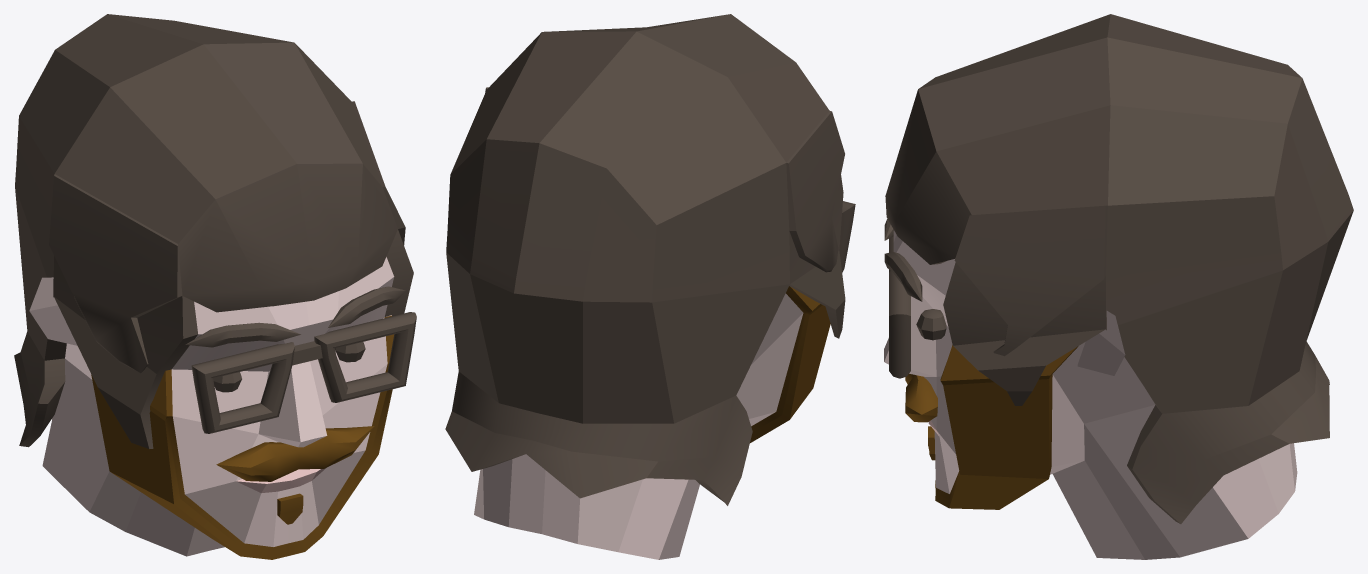
3 renders of one model, left to right at view 1: azimuth 30°, elevation 25°; view 2: azimuth 150°, elevation 25°; view 3: azimuth 270°, elevation 25°, orthographic.
Visible parts, largest first — view 1: Null.1-black (×4), Null.1-Mat.2, Null.1-Mat (×2), Null.1-Mat.1; view 2: Null.1-black (×2), Null.1-Mat.2, Null.1-Mat; view 3: Null.1-black (×4), Null.1-Mat.2, Null.1-Mat (×2).
Boxes of the visible parts, bbox=[...] form: Null.1-black (×4): bbox=[14, 14, 416, 448]; Null.1-Mat.2: bbox=[29, 257, 394, 556]; Null.1-Mat (×2): bbox=[91, 315, 394, 559]; Null.1-Mat.1: bbox=[236, 468, 325, 493]; Null.1-black (×2): bbox=[445, 14, 855, 505]; Null.1-Mat.2: bbox=[474, 293, 803, 559]; Null.1-Mat: bbox=[750, 286, 830, 442]; Null.1-black (×4): bbox=[884, 14, 1353, 523]; Null.1-Mat.2: bbox=[884, 230, 1297, 559]; Null.1-Mat (×2): bbox=[905, 345, 1078, 509].
Size of the model in its own units: 630 by 914 by 764.
